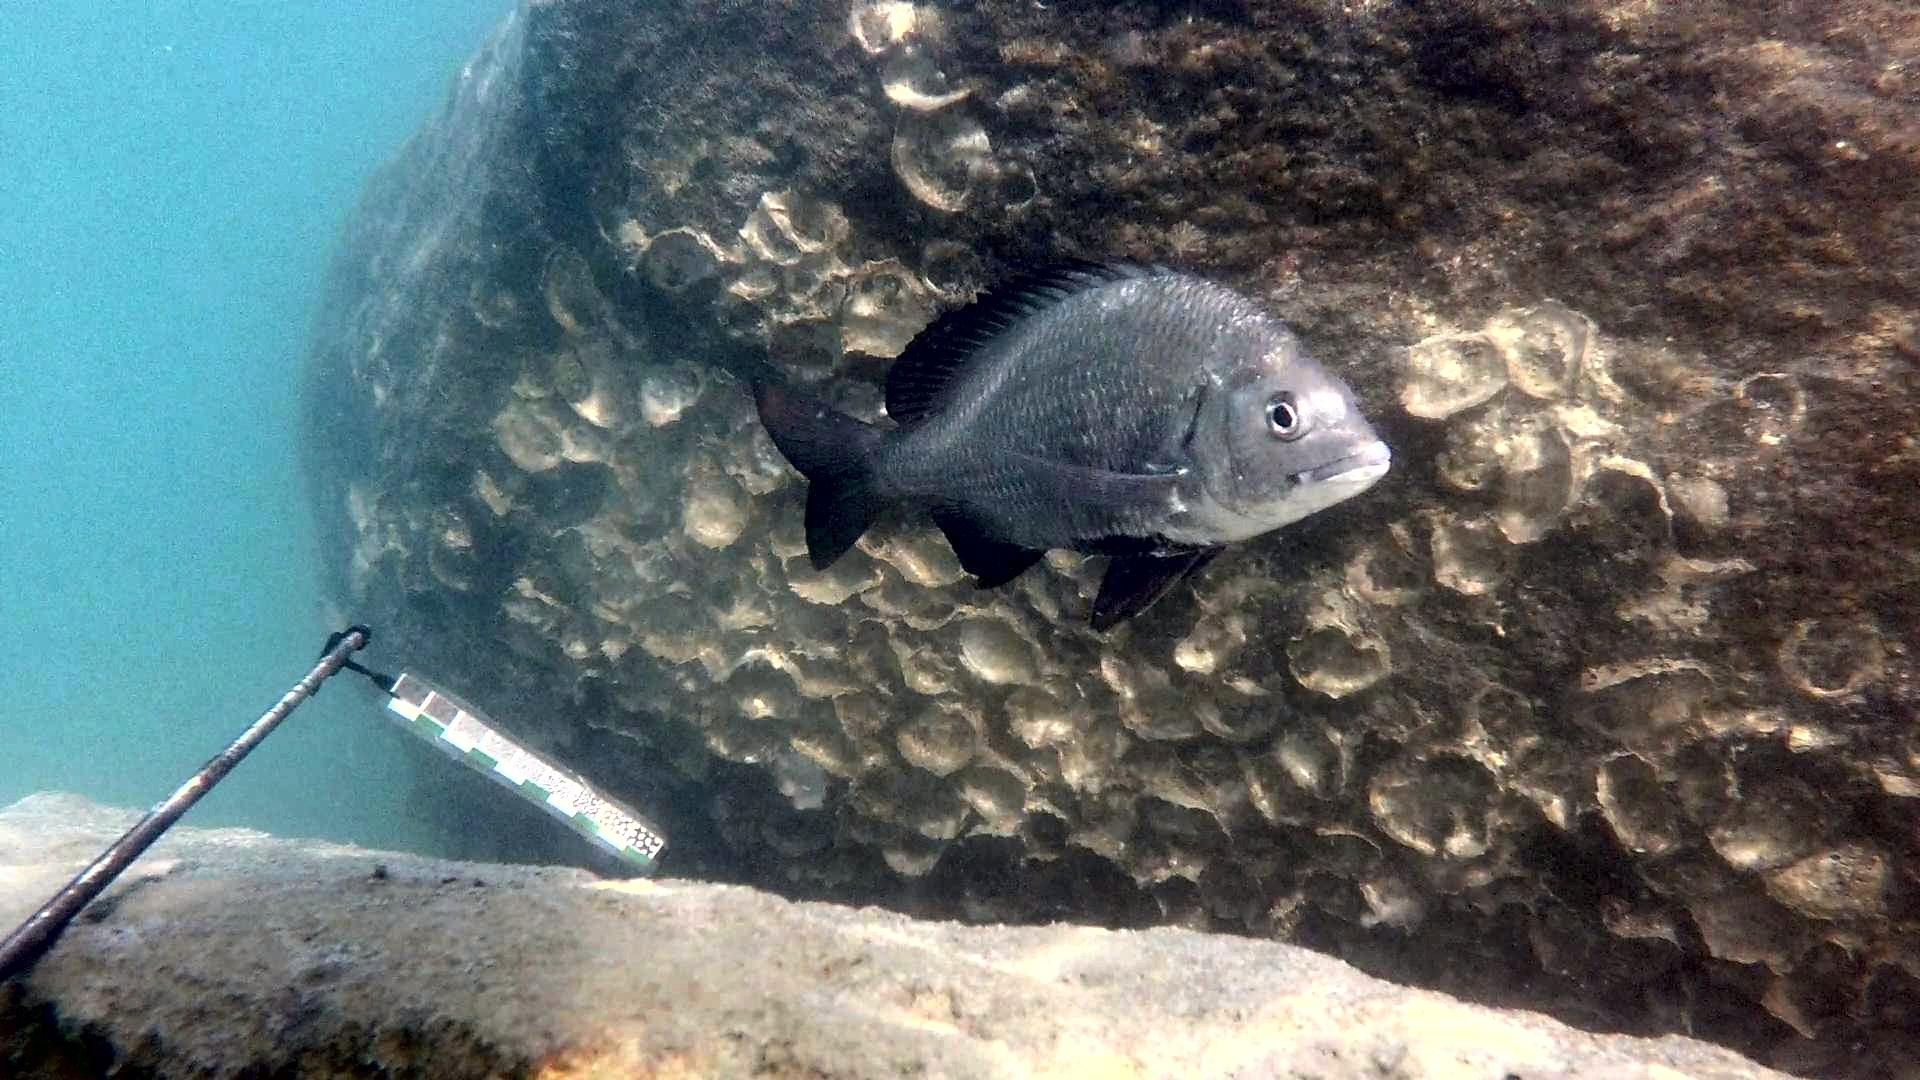acanthopagrus palmaris: (738, 245, 1403, 644)
